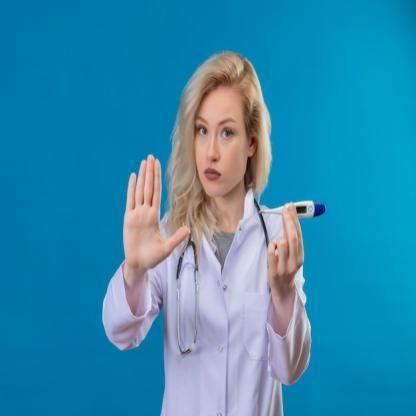stop: (122, 150, 192, 274)
